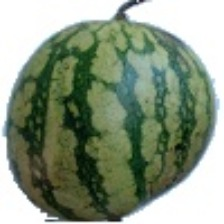watermelon: (0, 26, 195, 197)
